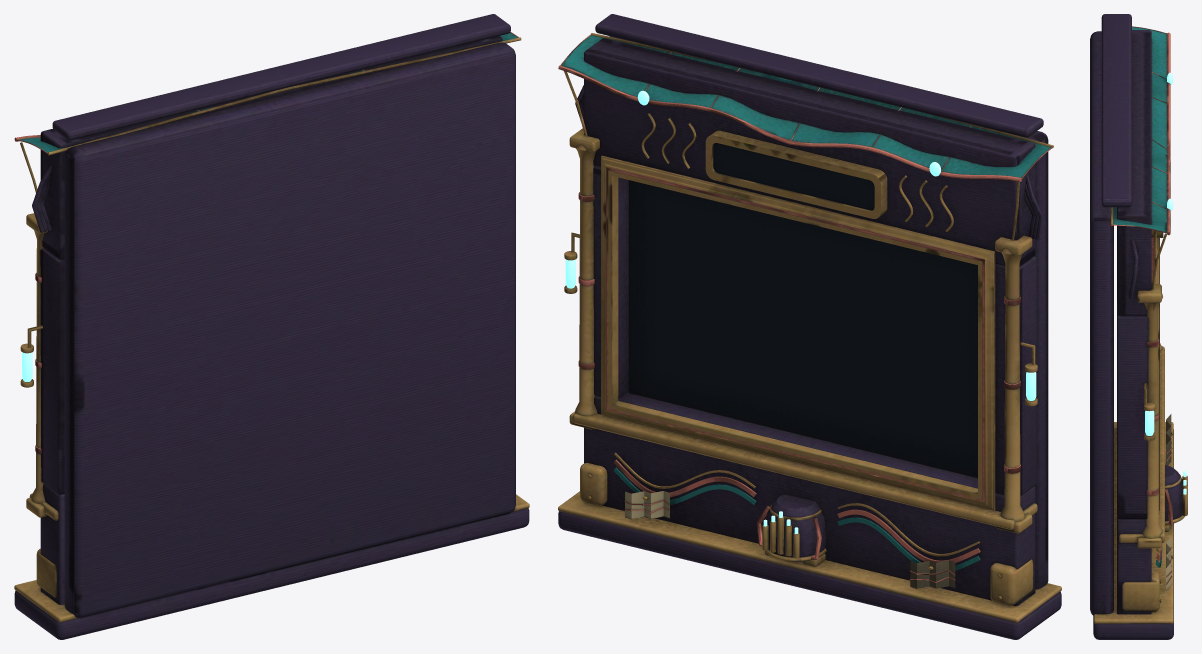
3 views of the same model, side by side, from view 1: azimuth 30°, elevation 25°; view 2: azimuth 150°, elevation 25°; view 3: azimuth 270°, elevation 25° (orthographic). The views are drawn at different scales.
Parts seen in each view (by area): view 1: Violet_cavern_shell, Brushed_expedition_brass; view 2: Violet_cavern_shell, Uniform_display_charcoal, Brushed_expedition_brass, Teal_woven_cloth, Coral_ribbon_enamel, Warm_folded_route_paper, Teal_resonance_glow; view 3: Violet_cavern_shell, Brushed_expedition_brass, Teal_woven_cloth, Coral_ribbon_enamel, Warm_folded_route_paper, Teal_resonance_glow.
Part boxes in pixels (<box>): Violet_cavern_shell: <box>14,14,529,639</box>; Brushed_expedition_brass: <box>14,37,529,622</box>; Violet_cavern_shell: <box>558,14,1061,639</box>; Uniform_display_charcoal: <box>629,143,977,477</box>; Brushed_expedition_brass: <box>558,33,1061,622</box>; Teal_woven_cloth: <box>561,35,1050,570</box>; Coral_ribbon_enamel: <box>558,34,1053,582</box>; Warm_folded_route_paper: <box>625,491,955,588</box>; Teal_resonance_glow: <box>565,90,1036,533</box>; Violet_cavern_shell: <box>1090,14,1183,639</box>; Brushed_expedition_brass: <box>1094,207,1187,623</box>; Teal_woven_cloth: <box>1113,27,1167,567</box>; Coral_ribbon_enamel: <box>1112,26,1173,584</box>; Warm_folded_route_paper: <box>1166,414,1171,590</box>; Teal_resonance_glow: <box>1145,72,1186,494</box>.
Bounding box in the file's own units: 8.83 × 8.8 × 1.79.
7 materials, 6 textured.
